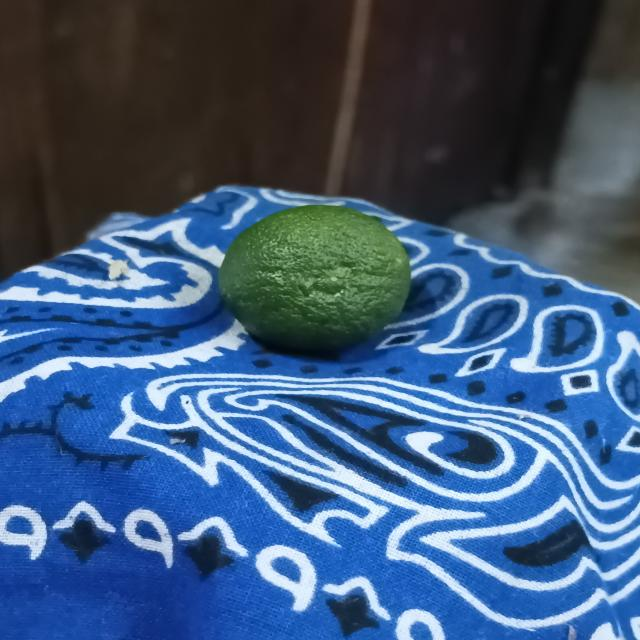heathy: (213, 202, 420, 358)
